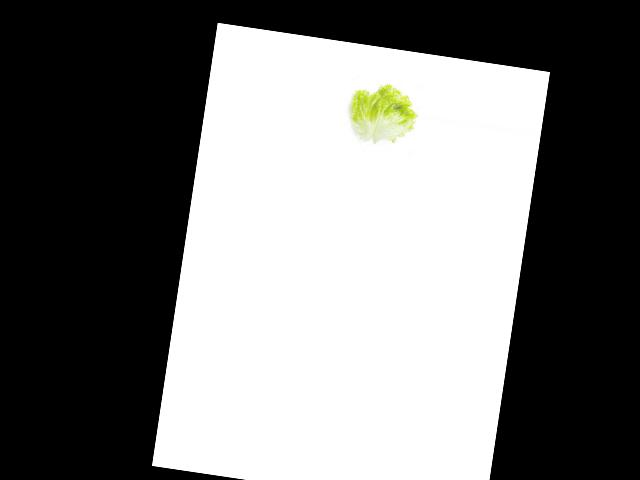lettuce: (339, 80, 422, 150)
